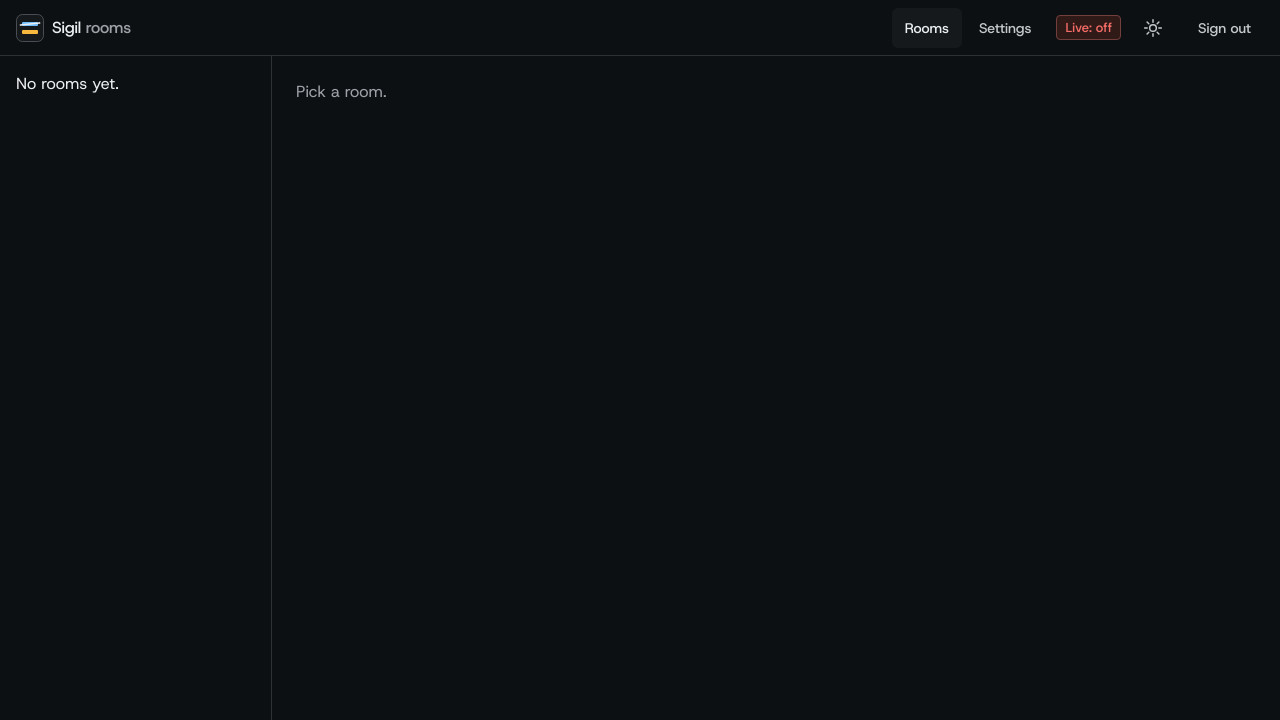
it: App › navigates to Settings and back to Rooms
The width and height of the screenshot is (1280, 720).
Expected: the text "No rooms yet." is shown, [16,73,119,94]
Click the button "Settings": (1005, 28) [966,8,1044,48]
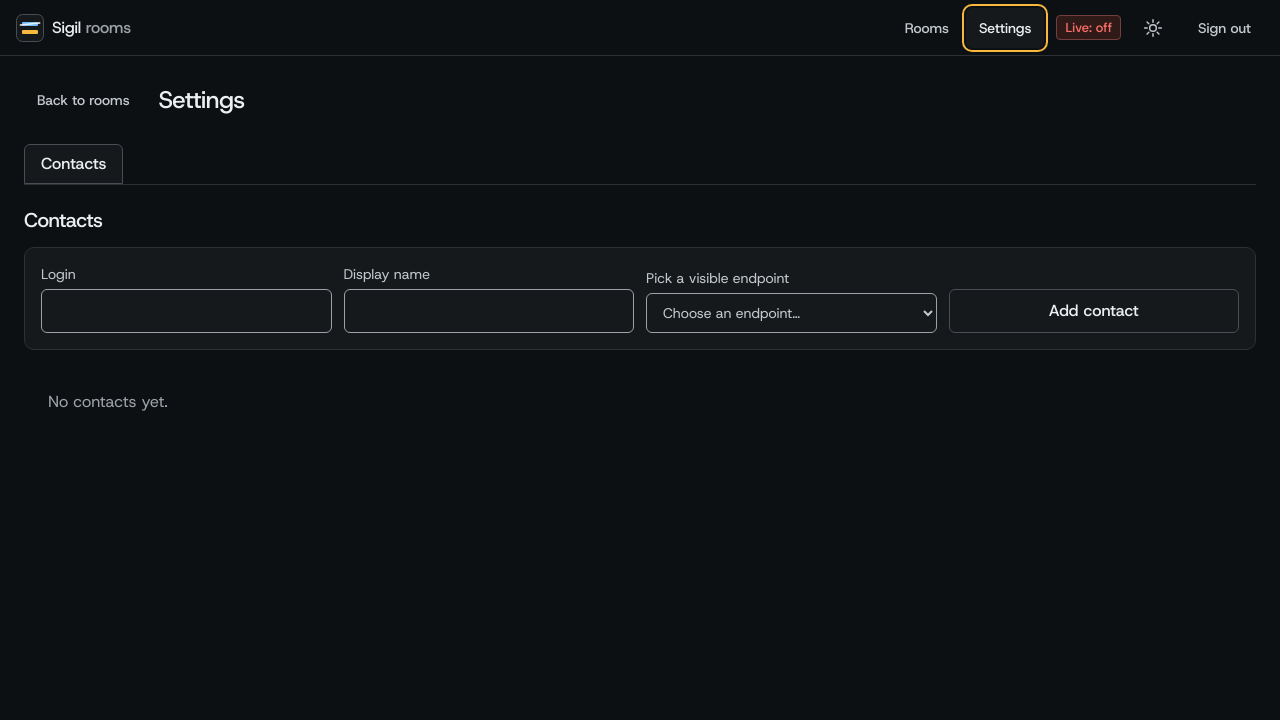
Result: the heading "Settings" is shown at [159,87,245,113]
Click the button "Back to rooms": (83, 100) [24,80,143,120]
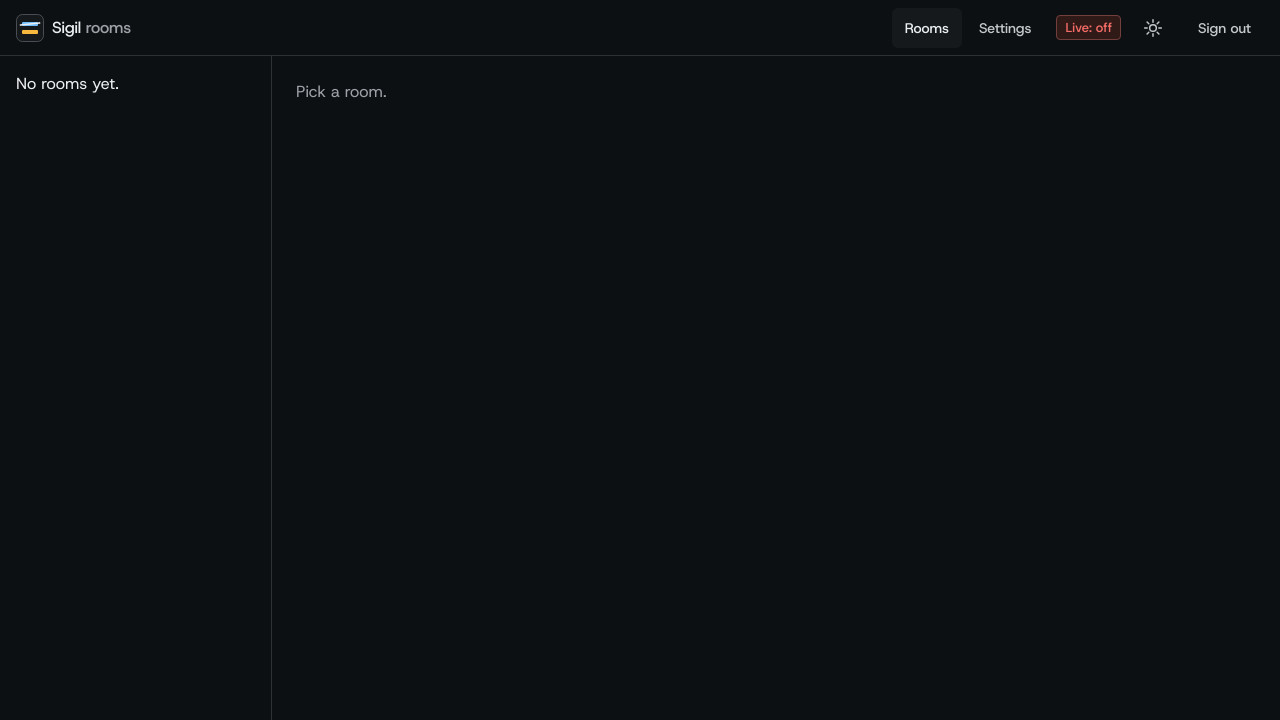
Result: the text "No rooms yet." is shown at [16,73,119,94]
